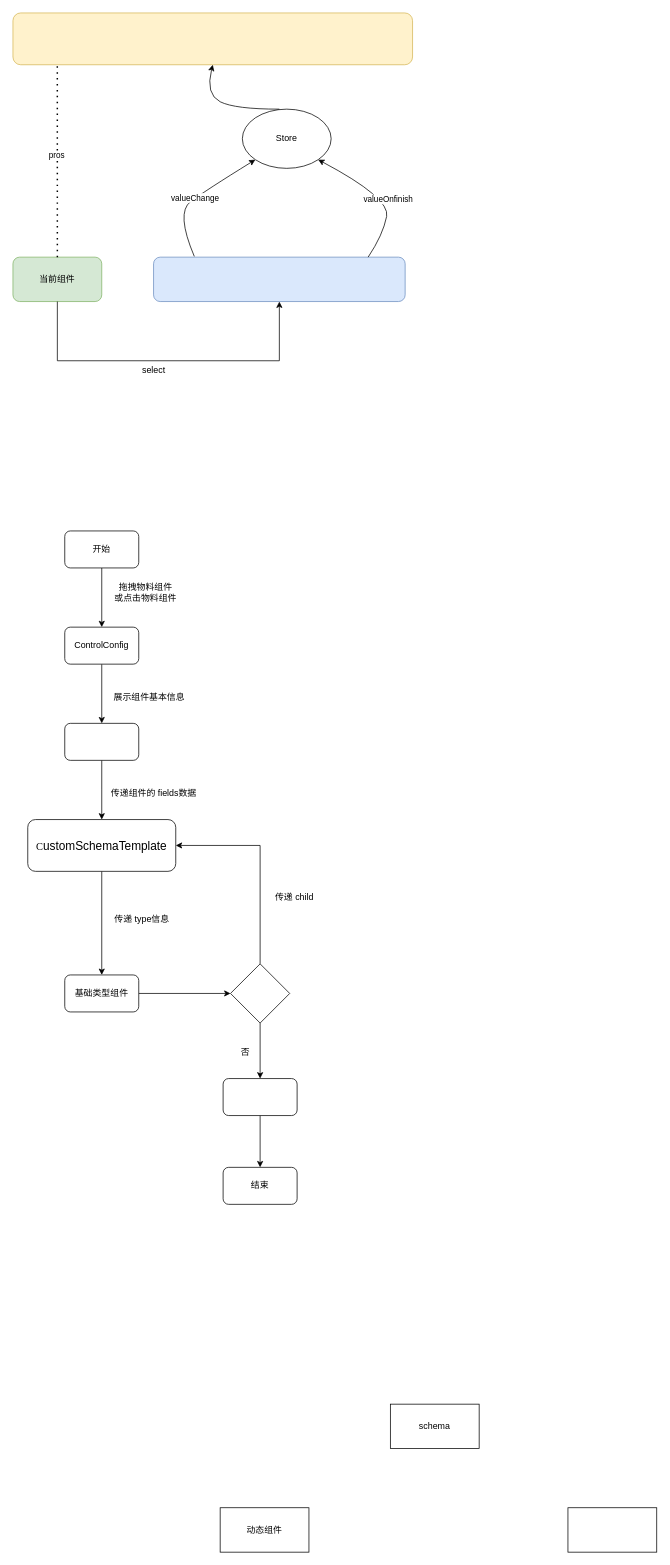
This 670x1565 diagram has some shape labels left out. Each missing label, with the box of its shape:
ConfigCtn: (64, 723, 139, 760)
属性编排表单: (153, 256, 405, 302)
属性面板展示: (222, 1078, 297, 1116)
是否child: (230, 963, 290, 1023)
物料属性: (12, 12, 413, 65)
